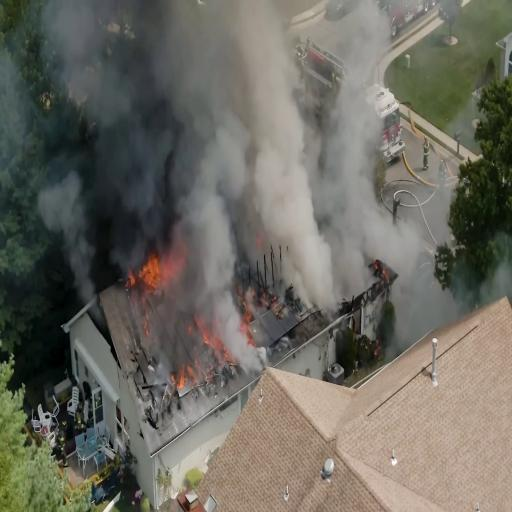smoke: (82, 0, 289, 171), (265, 124, 323, 286)
